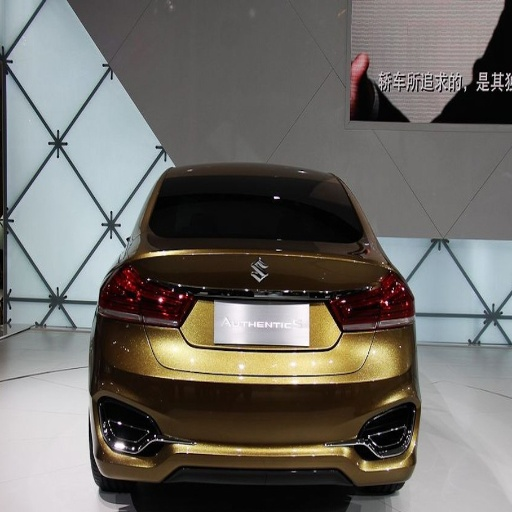back_bumper: (90, 325, 421, 481)
tailgate: (128, 244, 389, 370)
